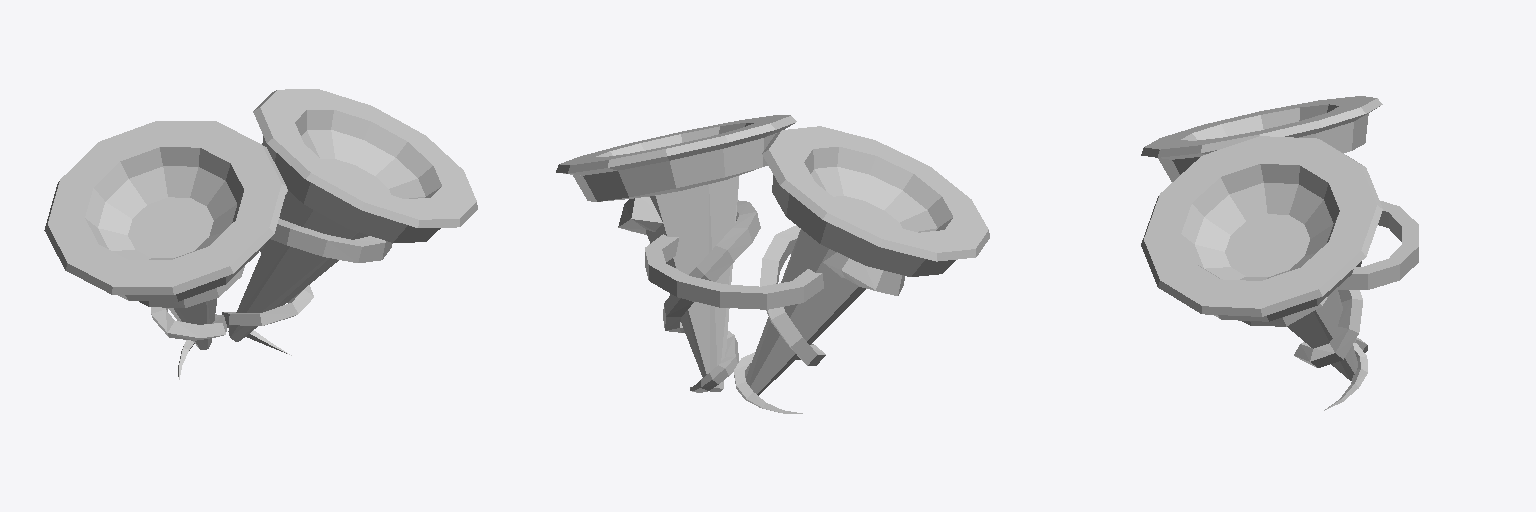
Rendered from torch_2_009.obj.
3 renders of one model, left to right at view 1: azimuth 30°, elevation 25°; view 2: azimuth 150°, elevation 25°; view 3: azimuth 270°, elevation 25°, orthographic.
Parts seen in each view (by area): view 1: torch_9_Cube.003_Cube.008; view 2: torch_9_Cube.003_Cube.008; view 3: torch_9_Cube.003_Cube.008.
Boxes of the visible parts, x1,y1,x2,y2 form: torch_9_Cube.003_Cube.008: [44, 89, 477, 379]; torch_9_Cube.003_Cube.008: [556, 115, 989, 413]; torch_9_Cube.003_Cube.008: [1141, 96, 1418, 410].
Size of the model in its own units: 1.18 by 0.7263 by 0.7107.